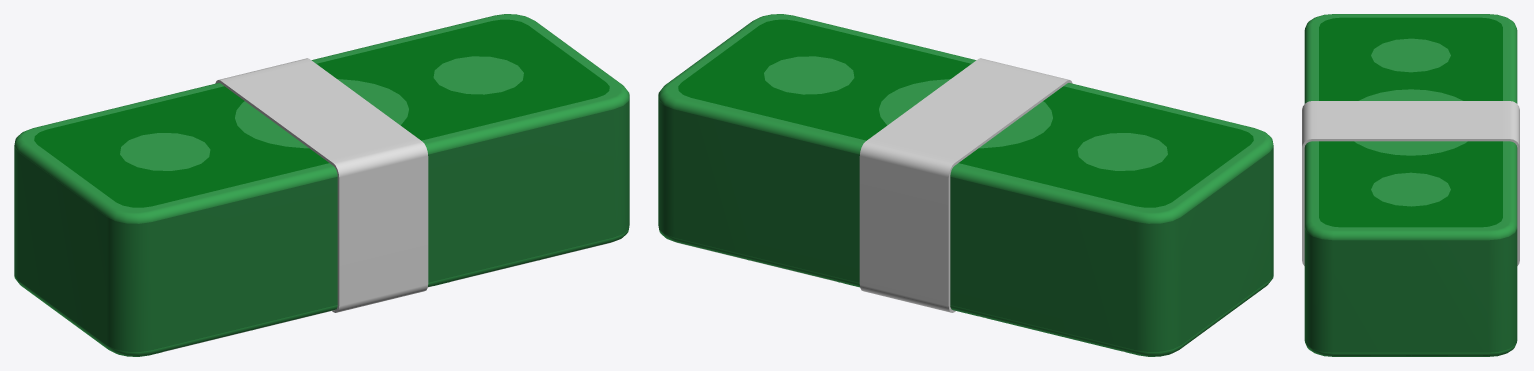
File: money_01.1.fbx
3 views of the same model, side by side, from view 1: azimuth 30°, elevation 25°; view 2: azimuth 150°, elevation 25°; view 3: azimuth 270°, elevation 25° (orthographic). The views are drawn at different scales.
Visible parts, largest first — view 1: money-v1; view 2: money-v1; view 3: money-v1.
Part boxes in pixels (bbox=[...]): money-v1: bbox=[14, 14, 629, 356]; money-v1: bbox=[658, 14, 1273, 356]; money-v1: bbox=[1302, 14, 1519, 356].
Bounding box in the file's own units: 4.54 × 1.24 × 1.88.
